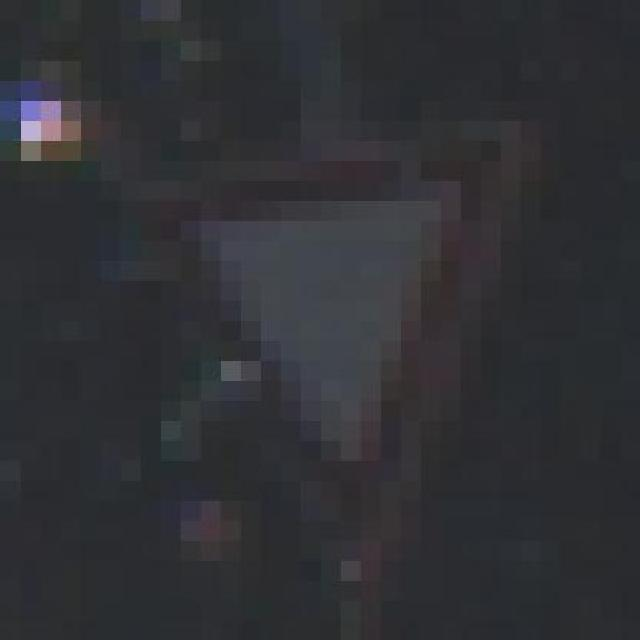Give Way: (97, 115, 577, 534)
